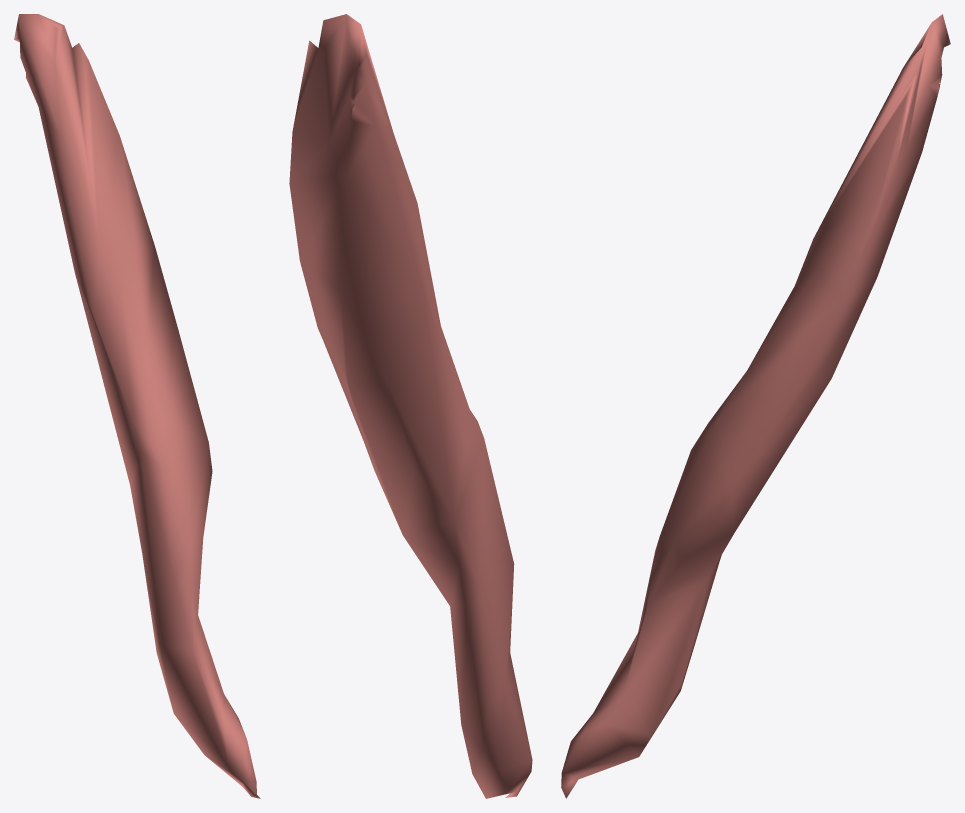
3 views of the same model, side by side, from view 1: azimuth 30°, elevation 25°; view 2: azimuth 150°, elevation 25°; view 3: azimuth 270°, elevation 25° (orthographic). The views are drawn at different scales.
Parts seen in each view (by area): view 1: ZA_faa2fafd8d068bdb; view 2: ZA_faa2fafd8d068bdb; view 3: ZA_faa2fafd8d068bdb.
Part boxes in pixels (x1=…): ZA_faa2fafd8d068bdb: x1=14, y1=14, x2=260, y2=798; ZA_faa2fafd8d068bdb: x1=289, y1=14, x2=532, y2=798; ZA_faa2fafd8d068bdb: x1=561, y1=14, x2=950, y2=798.
Size of the model in its own units: 0.00566 by 0.0382 by 0.0181.
